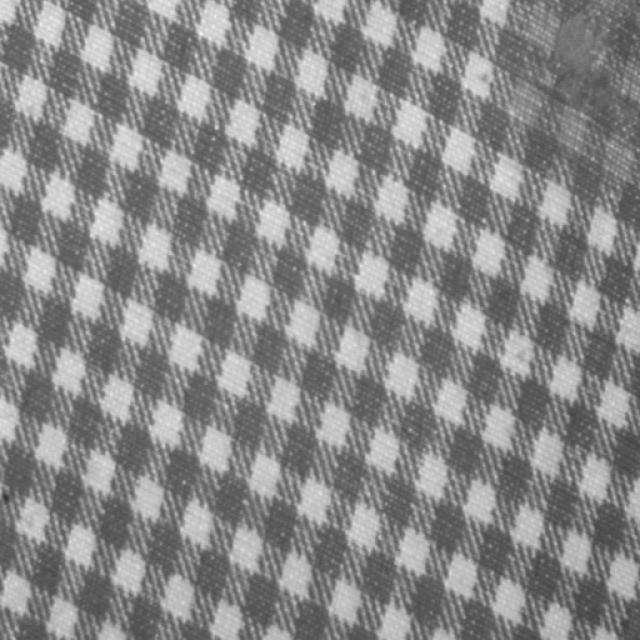Stain-Defect: (518, 0, 638, 181)
